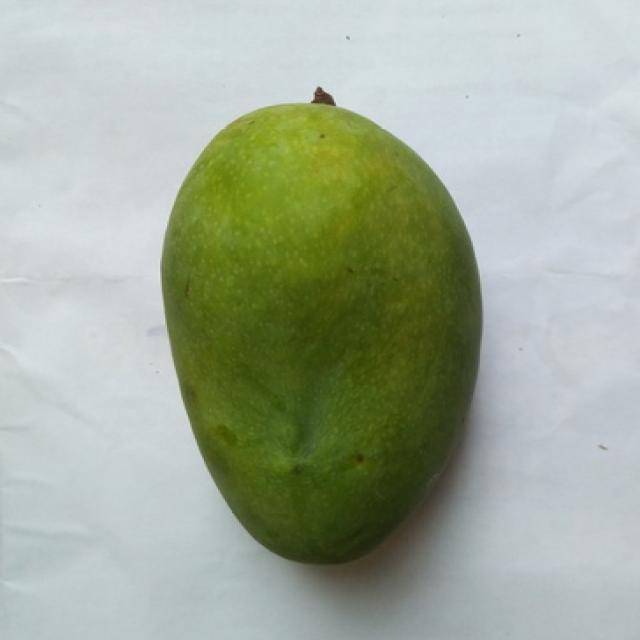Mango: (162, 105, 480, 563)
